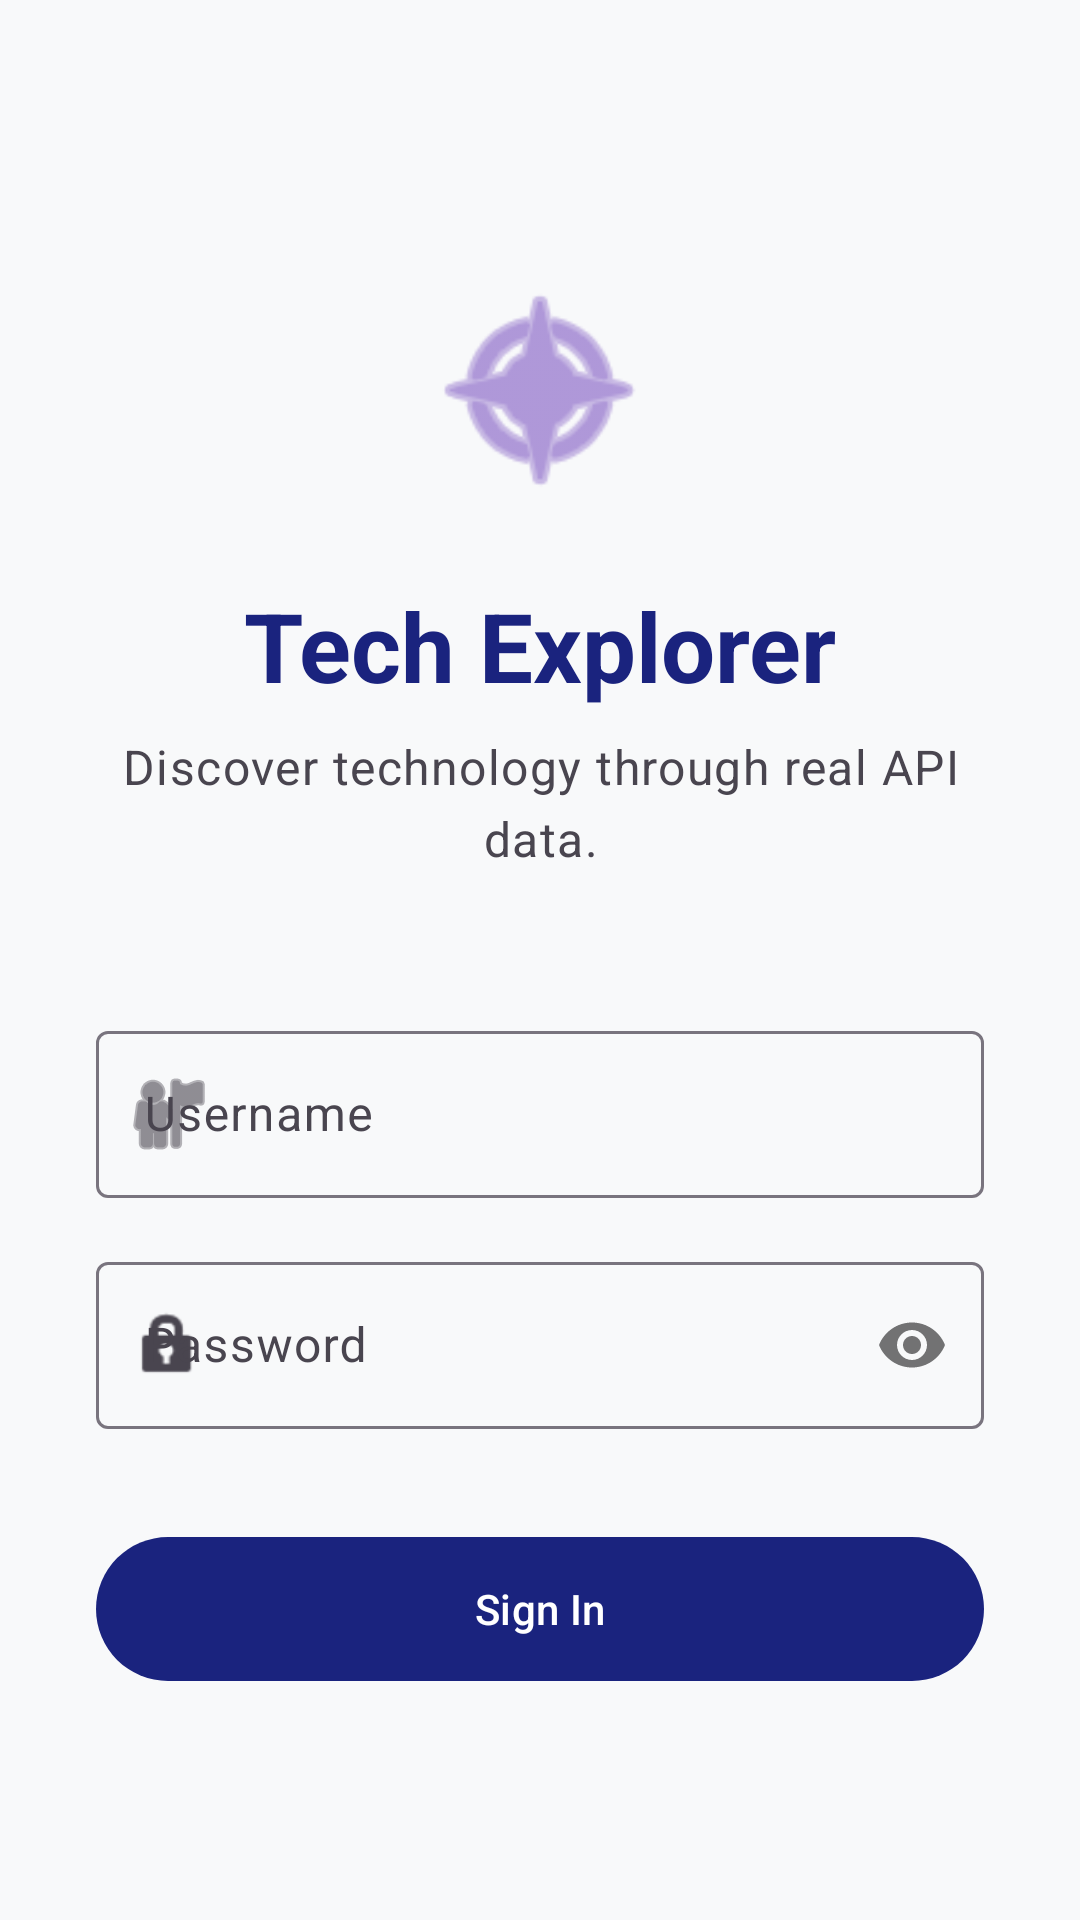

Icons on this 1080px x 1920px Android screen, each with the point to tap as [x,y]:
compass: [539,390]
